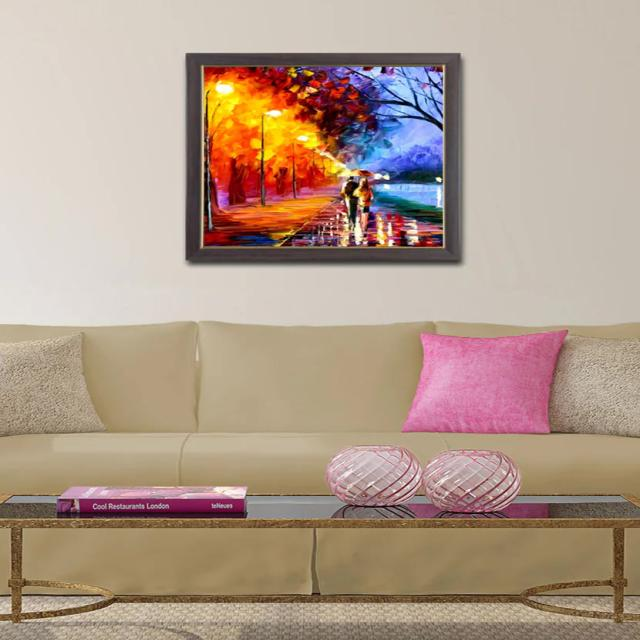painting: (184, 52, 463, 263)
